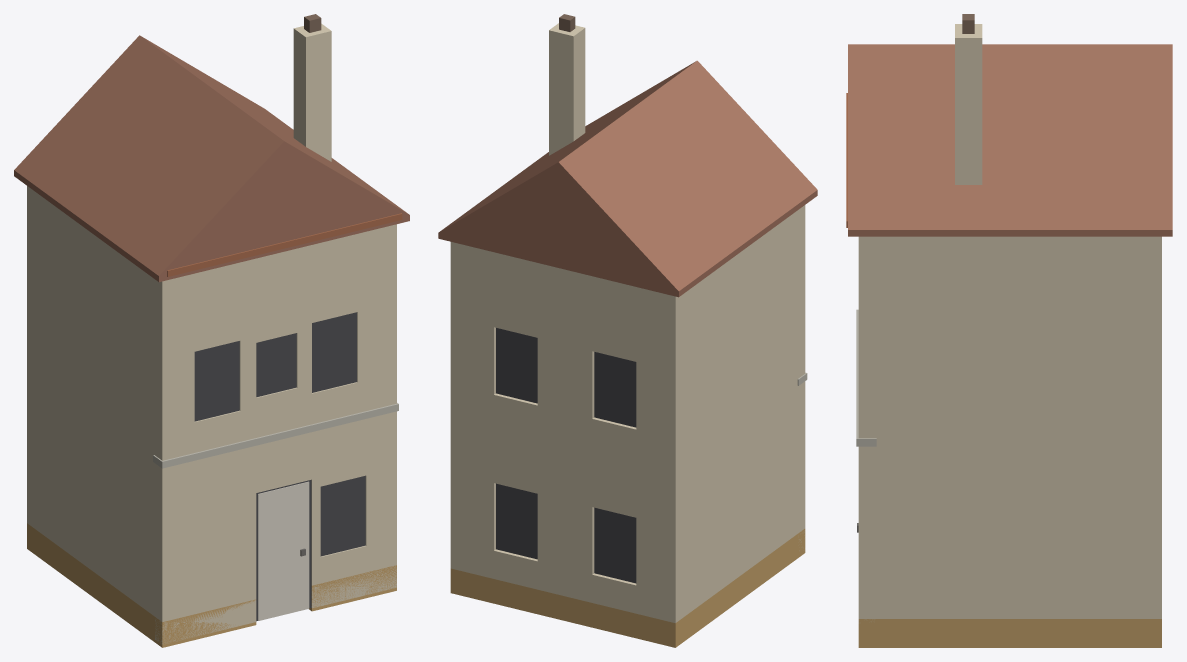
Rendered from env_house_2storey_c.glb.
3 renders of one model, left to right at view 1: azimuth 30°, elevation 25°; view 2: azimuth 150°, elevation 25°; view 3: azimuth 270°, elevation 25°, orthographic. The views are drawn at different scales.
Visible parts, largest first — view 1: env_house_2storey_c; view 2: env_house_2storey_c; view 3: env_house_2storey_c.
Boxes of the visible parts, bbox=[...] form: env_house_2storey_c: bbox=[14, 14, 409, 647]; env_house_2storey_c: bbox=[438, 14, 817, 647]; env_house_2storey_c: bbox=[846, 14, 1172, 647].
Size of the model in its own units: 4.28 by 8.9 by 4.3.
